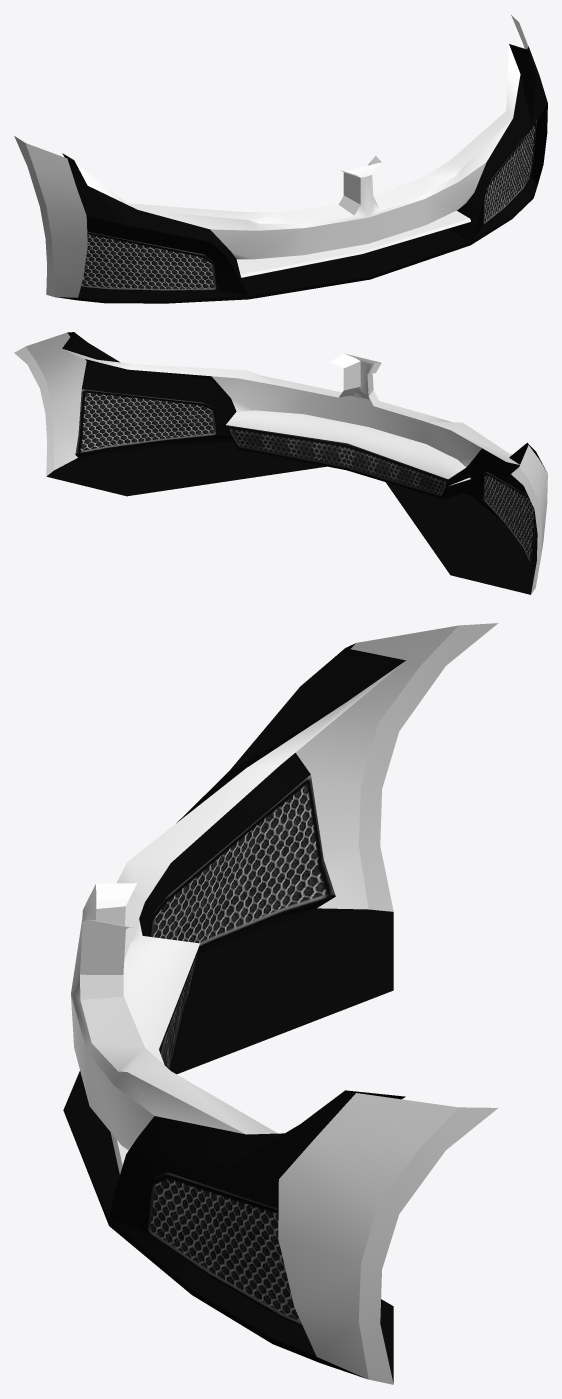
Rendered from Sport_07_Bumper_F_3.fbx.
3 renders of one model, top to bottom at view 1: azimuth 30°, elevation 25°; view 2: azimuth 150°, elevation 25°; view 3: azimuth 270°, elevation 25°, orthographic. The views are drawn at different scales.
Visible parts, largest first — view 1: Sport_07_Bumper_F_3; view 2: Sport_07_Bumper_F_3; view 3: Sport_07_Bumper_F_3.
Boxes of the visible parts, x1,y1,x2,y2 form: Sport_07_Bumper_F_3: (14, 15, 547, 303); Sport_07_Bumper_F_3: (14, 332, 547, 594); Sport_07_Bumper_F_3: (63, 623, 498, 1384).
Bounding box in the file's own units: 204 × 55.59 × 77.52.
